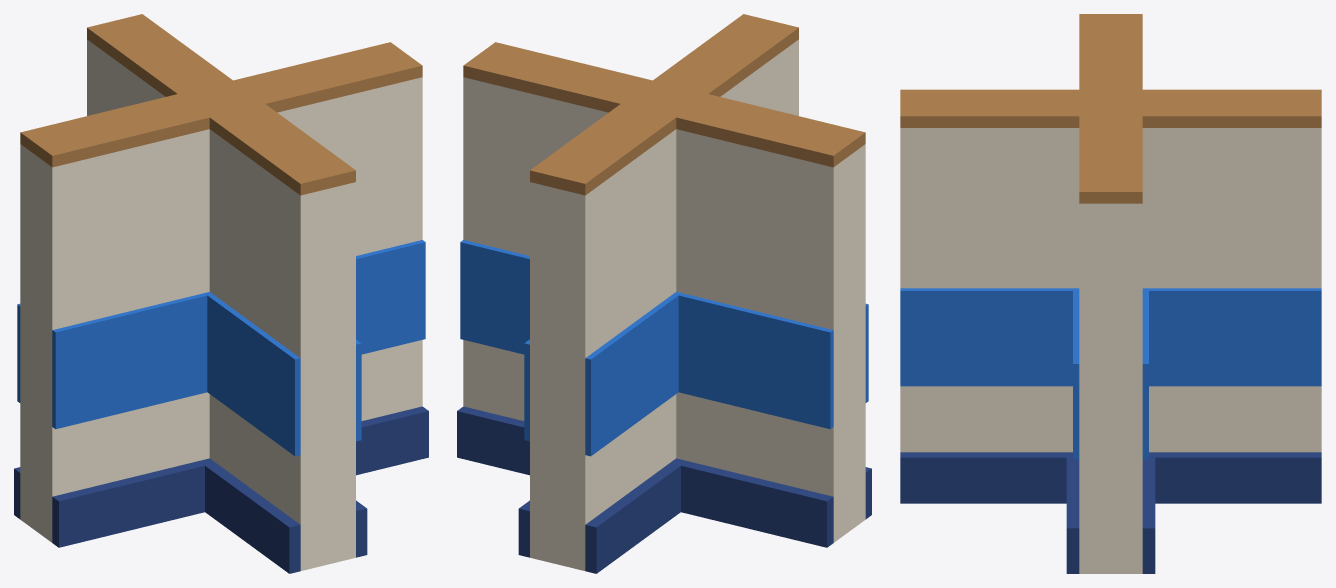
File: partition-full-cross.glb
3 renders of one model, left to right at view 1: azimuth 30°, elevation 25°; view 2: azimuth 150°, elevation 25°; view 3: azimuth 270°, elevation 25°, orthographic.
Visible parts, largest first — view 1: partition-full-cross; view 2: partition-full-cross; view 3: partition-full-cross.
Part boxes in pixels (<box>): partition-full-cross: <box>14,14,428,573</box>; partition-full-cross: <box>457,14,871,573</box>; partition-full-cross: <box>900,14,1321,573</box>.
Bounding box in the file's own units: 1 × 1 × 1.
Materials: 1 (1 with a texture image).
